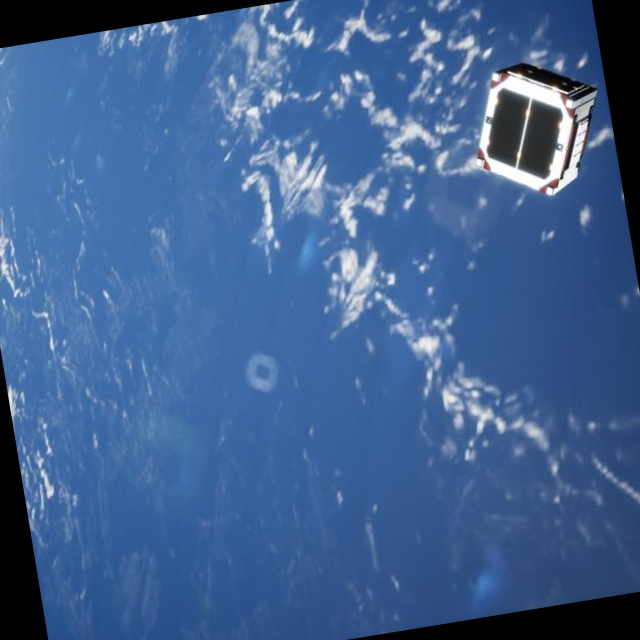medium_debris: (452, 41, 615, 213)
